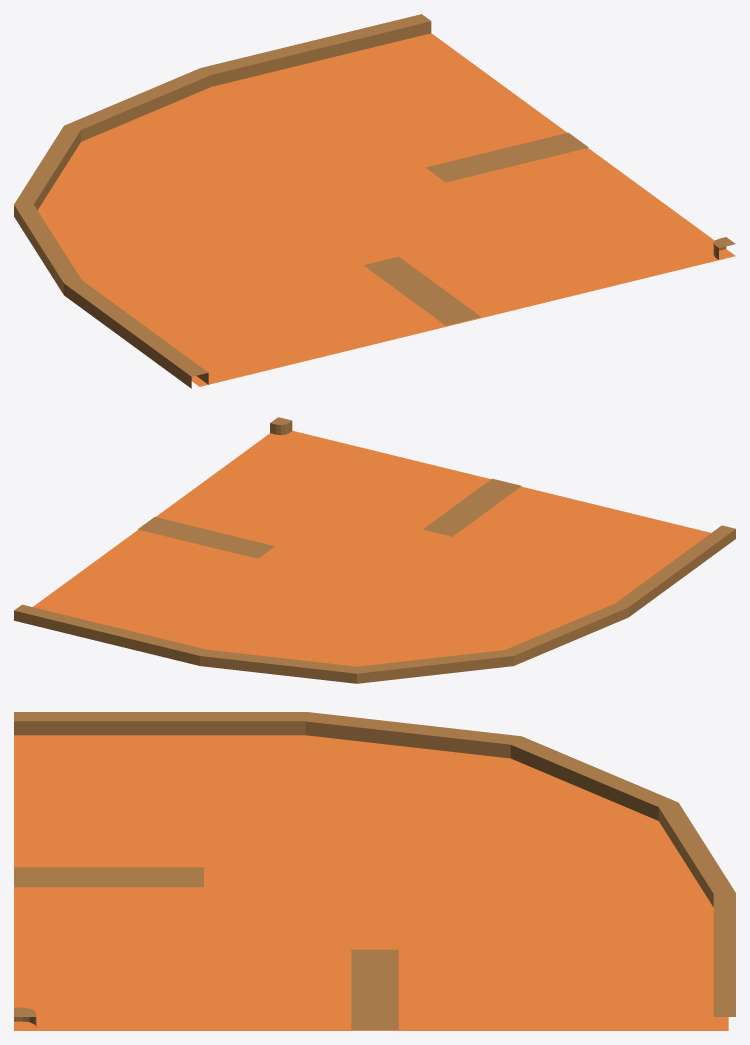
File: Map-Road-curve.fbx
The picture shows the model from 3 angles, top to bottom: view 1: azimuth 30°, elevation 25°; view 2: azimuth 150°, elevation 25°; view 3: azimuth 270°, elevation 25°; orthographic projection. The views are drawn at different scales.
Visible parts, largest first — view 1: Map-Road-curve; view 2: Map-Road-curve; view 3: Map-Road-curve.
Part boxes in pixels (left/top/right/bottom): Map-Road-curve: left=14, top=14, right=735, bottom=388; Map-Road-curve: left=14, top=417, right=735, bottom=683; Map-Road-curve: left=14, top=712, right=735, bottom=1030.
Size of the model in its own units: 2 by 0.0423 by 2.
